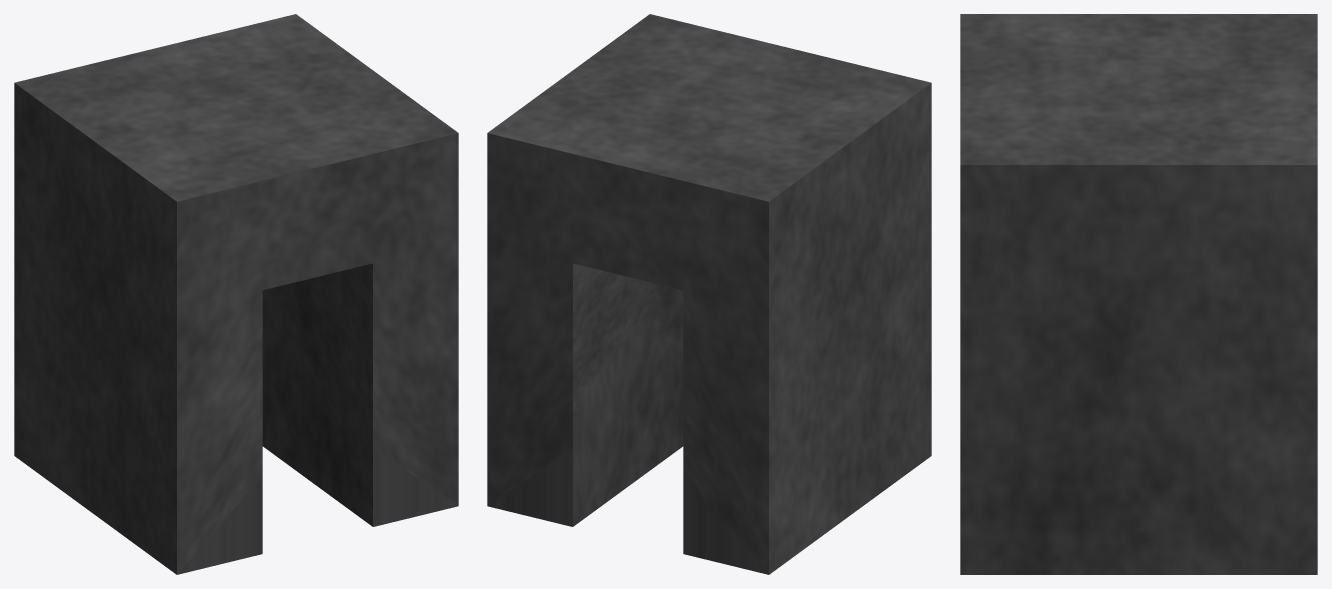
File: Obstacle_Rock.obj
The picture shows the model from 3 angles, left to right: view 1: azimuth 30°, elevation 25°; view 2: azimuth 150°, elevation 25°; view 3: azimuth 270°, elevation 25°; orthographic projection. The views are drawn at different scales.
Parts seen in each view (by area): view 1: Obstacle_Rock; view 2: Obstacle_Rock; view 3: Obstacle_Rock.
Boxes of the visible parts, x1,y1,x2,y2 form: Obstacle_Rock: (14,14,458,574); Obstacle_Rock: (487,14,931,574); Obstacle_Rock: (960,14,1317,574).
Bounding box in the file's own units: 2 × 2.53 × 2.
